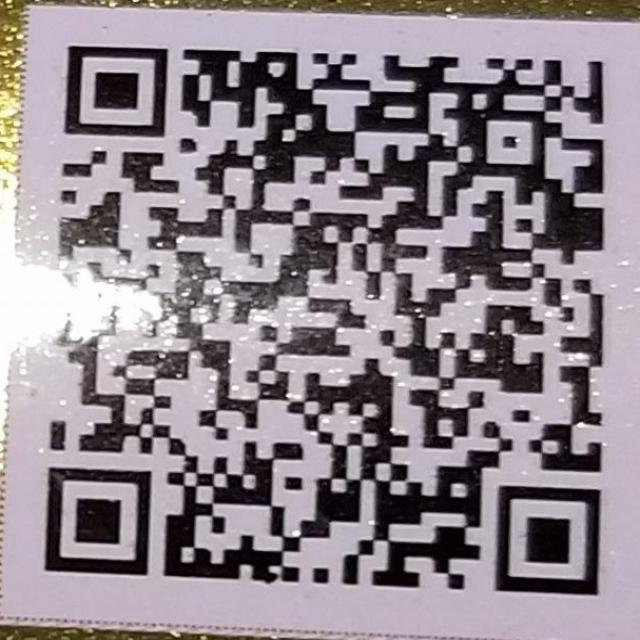QR_CODE: (42, 42, 606, 604)
